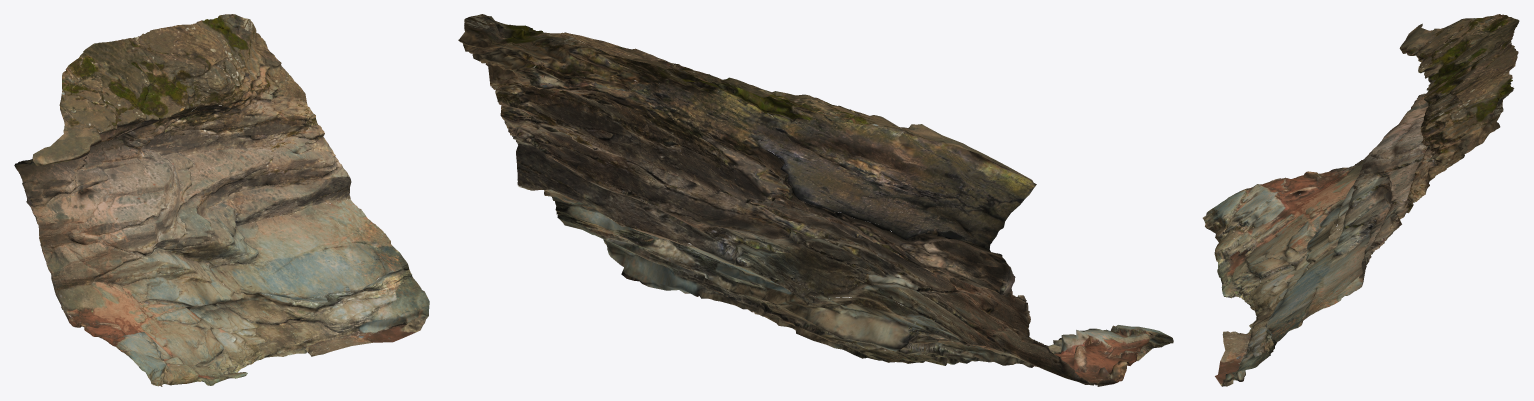
File: rock_face_01.fbx
3 views of the same model, side by side, from view 1: azimuth 30°, elevation 25°; view 2: azimuth 150°, elevation 25°; view 3: azimuth 270°, elevation 25° (orthographic). The views are drawn at different scales.
Parts seen in each view (by area): view 1: rock_face_01; view 2: rock_face_01; view 3: rock_face_01.
Part boxes in pixels (left/top/right/bottom): rock_face_01: left=14, top=14, right=429, bottom=386; rock_face_01: left=458, top=14, right=1173, bottom=386; rock_face_01: left=1202, top=14, right=1519, bottom=386.
Size of the model in its own units: 4.95 by 3.57 by 3.83.
Materials: 1 (1 with a texture image).
